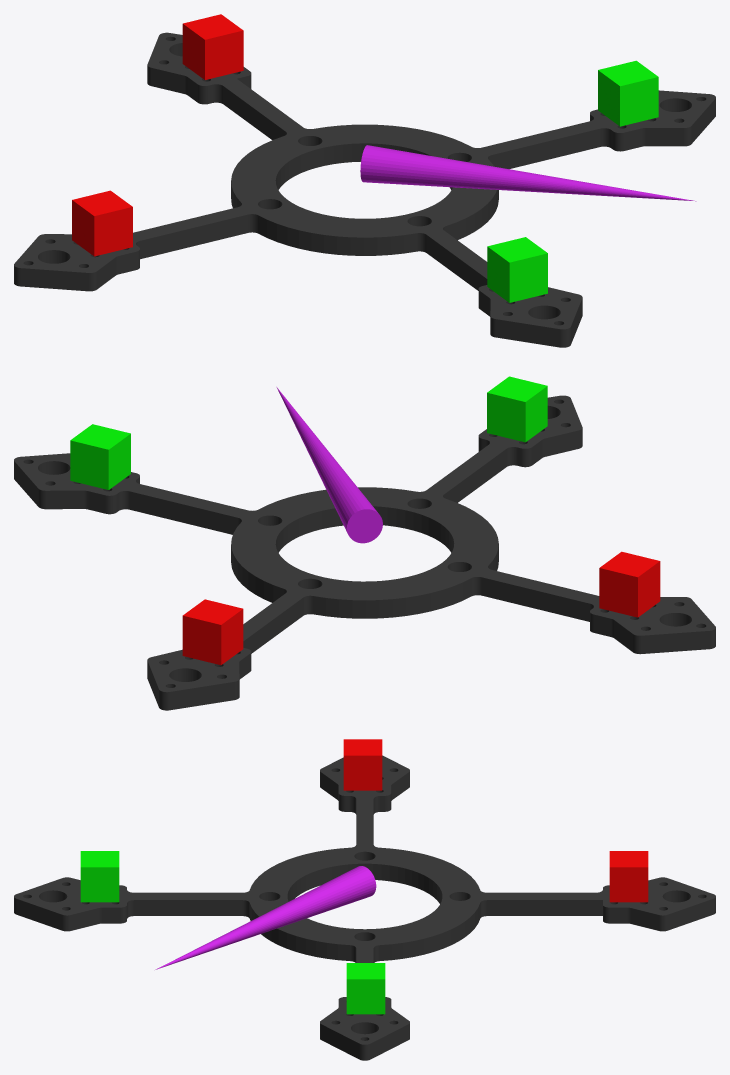
File: quadcopter.glb
3 renders of one model, top to bottom at view 1: azimuth 30°, elevation 25°; view 2: azimuth 150°, elevation 25°; view 3: azimuth 270°, elevation 25°, orthographic. The views are drawn at different scales.
Parts seen in each view (by area): view 1: PlacaMotoare, Cone, Cube.003, Cube.001, Cube.002, Cube; view 2: PlacaMotoare, Cone, Cube.001, Cube.003, Cube, Cube.002; view 3: PlacaMotoare, Cone, Cube.001, Cube, Cube.002, Cube.003.
Boxes of the visible parts, left/top/right/bottom form: PlacaMotoare: left=14, top=32, right=715, bottom=347; Cone: left=360, top=145, right=696, bottom=201; Cube.003: left=182, top=14, right=243, bottom=79; Cube.001: left=72, top=190, right=132, bottom=256; Cube.002: left=598, top=60, right=658, bottom=126; Cube: left=487, top=237, right=547, bottom=302; PlacaMotoare: left=14, top=395, right=715, bottom=710; Cone: left=276, top=387, right=382, bottom=543; Cube.001: left=599, top=551, right=660, bottom=617; Cube.003: left=182, top=599, right=243, bottom=665; Cube: left=487, top=376, right=547, bottom=442; Cube.002: left=70, top=424, right=130, bottom=489; PlacaMotoare: left=14, top=755, right=715, bottom=1060; Cone: left=155, top=866, right=376, bottom=969; Cube.001: left=343, top=739, right=382, bottom=790; Cube: left=80, top=851, right=119, bottom=902; Cube.002: left=346, top=963, right=385, bottom=1014; Cube.003: left=609, top=851, right=648, bottom=902.
Bounding box in the file's own units: 199 × 16.66 × 199.
